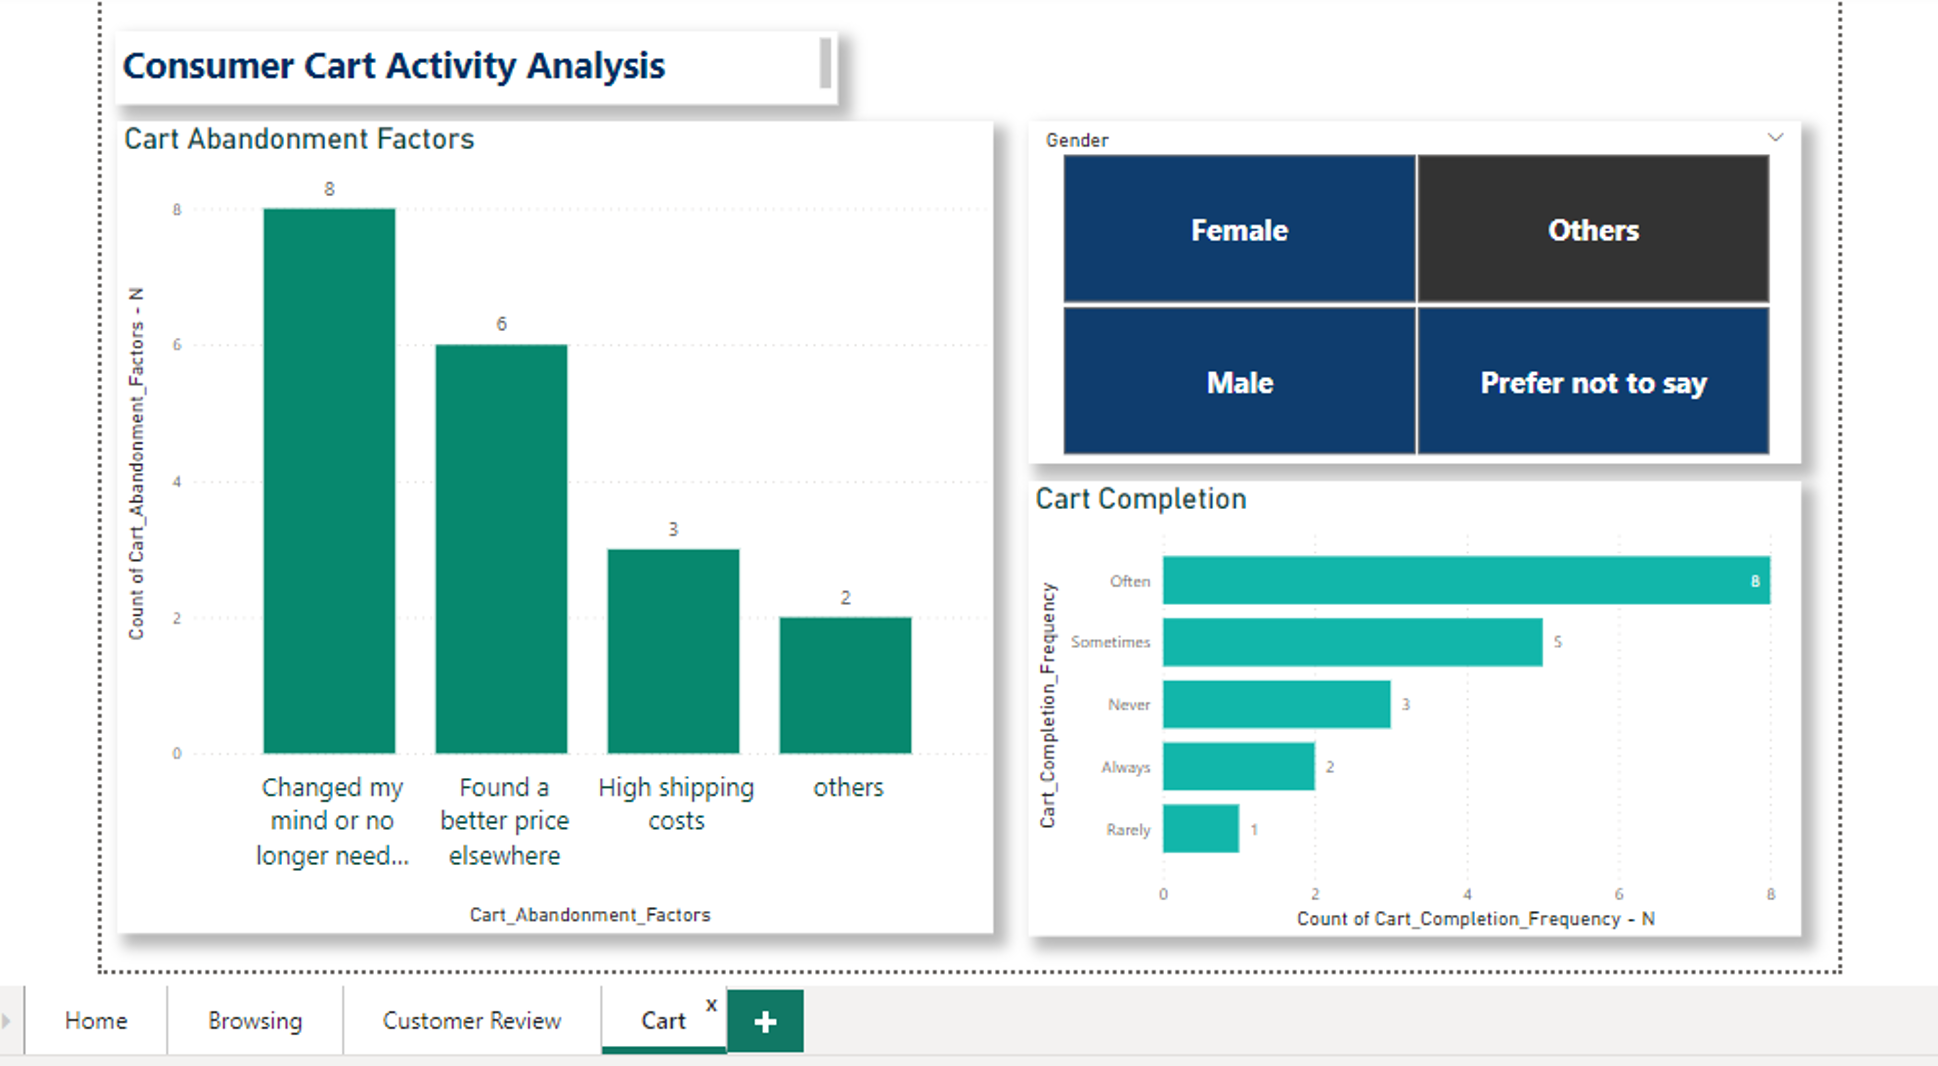

The page's visual inventory and layout, read from the dashboard file:
{"tool":"powerbi","page":{"name":"Cart","canvas":[1280,720],"ordinal":3},"visuals":[{"type":"slicer","fields":{"Values":["Amazon Customer Behavior Survey 1 - Copy (1).Gender"]},"box":[682.5,94.3,569.2,251.6],"z":0},{"type":"textbox","box":[10.5,28.5,531.8,54.1],"z":1000},{"type":"pieChart","title":"Cart Abandonment Factors ","fields":{"Category":["Amazon Customer Behavior Survey 1 - Copy (1).Cart_Abandonment_Factors"],"Y":["CountNonNull(Amazon Customer Behavior Survey 1 - Copy (1).Cart_Abandonment_Factors - N)"]},"box":[11,94.3,644.7,597.5],"z":2000},{"type":"clusteredBarChart","title":"Cart Completion ","fields":{"Category":["Amazon Customer Behavior Survey 1 - Copy (1).Cart_Completion_Frequency"],"Y":["CountNonNull(Amazon Customer Behavior Survey 1 - Copy (1).Cart_Completion_Frequency - N)"]},"box":[682.5,360.1,569.2,334.9],"z":3000}]}

Visuals, with their boxes on the page's 1280x720 design canvas (x1, y1, x2, y2). These are canvas units, not pixel positions in the 1938x1066 screenshot, which may show the page scaled, cropped or inside an application window:
slicer - Amazon Customer Behavior Survey 1 - Copy (1).Gender: crop(682, 94, 1252, 346)
textbox: crop(10, 28, 542, 83)
"Cart Abandonment Factors " pieChart: crop(11, 94, 656, 692)
"Cart Completion " clusteredBarChart: crop(682, 360, 1252, 695)
